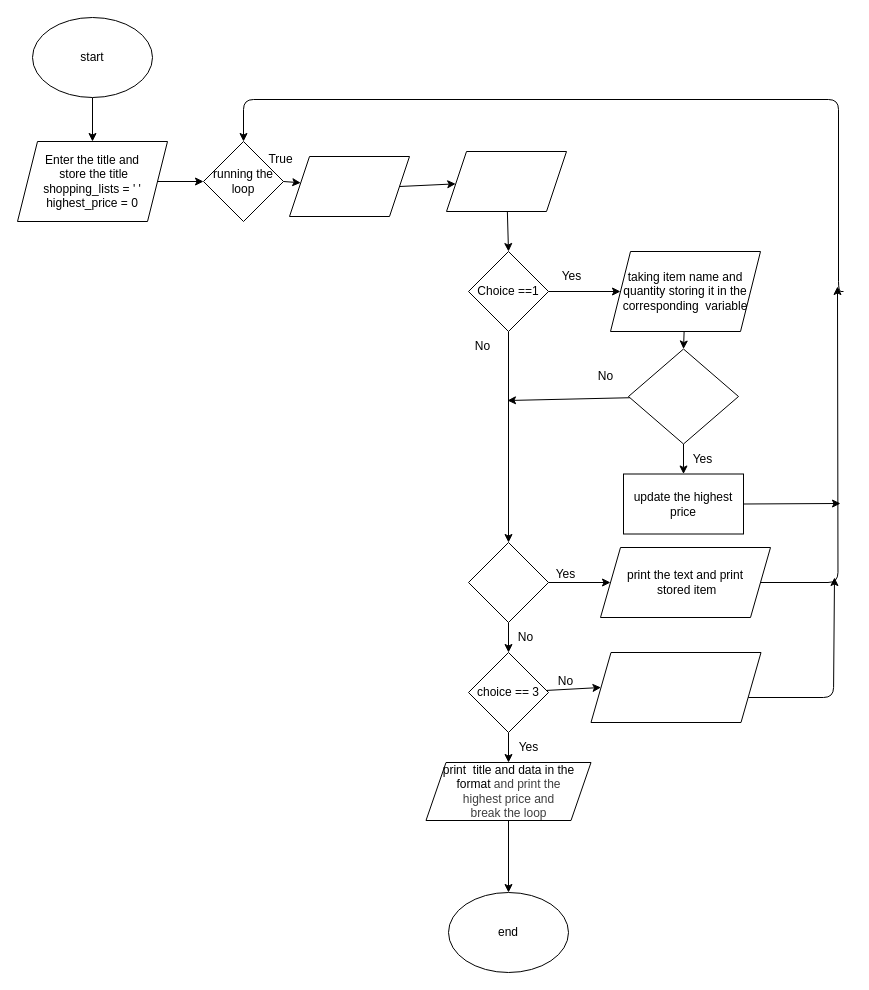
Image size: 869x990. Some labels were removed from this diagram. The centre of each missing label's shape, as x and y in pixels:
choice == 2: pixel 508 582
Display the menu: pixel 349 186
if price > highest_price: pixel 683 396
print invalid choice and try again: pixel 675 687
taking choice: pixel 506 181
